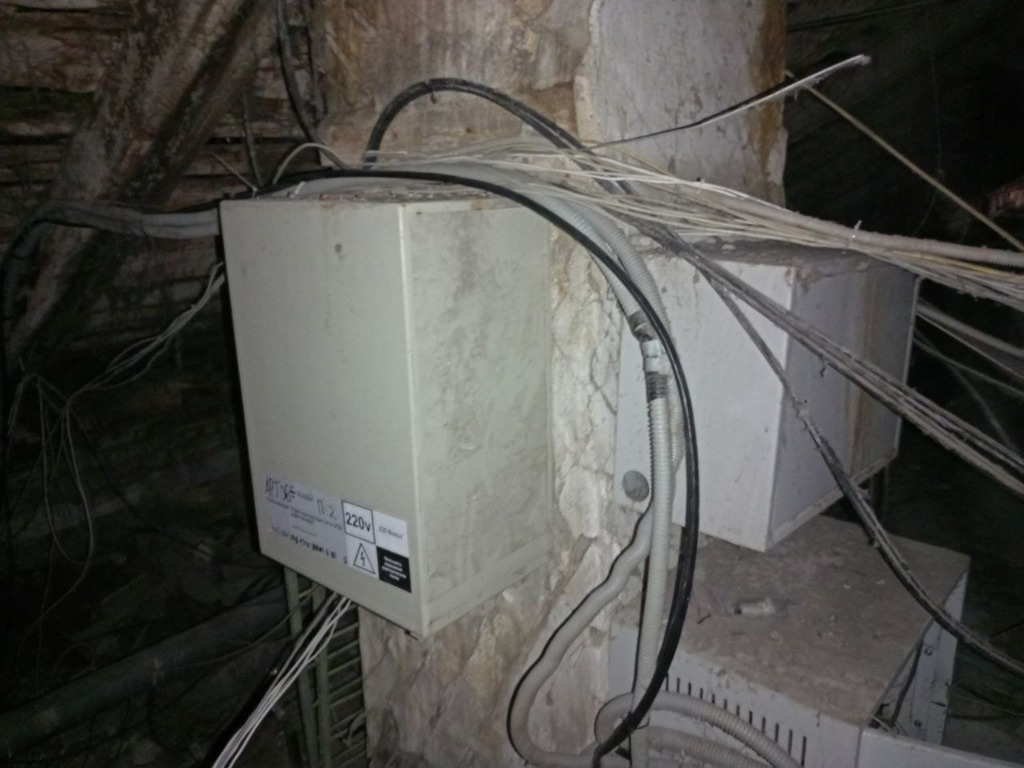sv-5: (203, 171, 557, 651)
